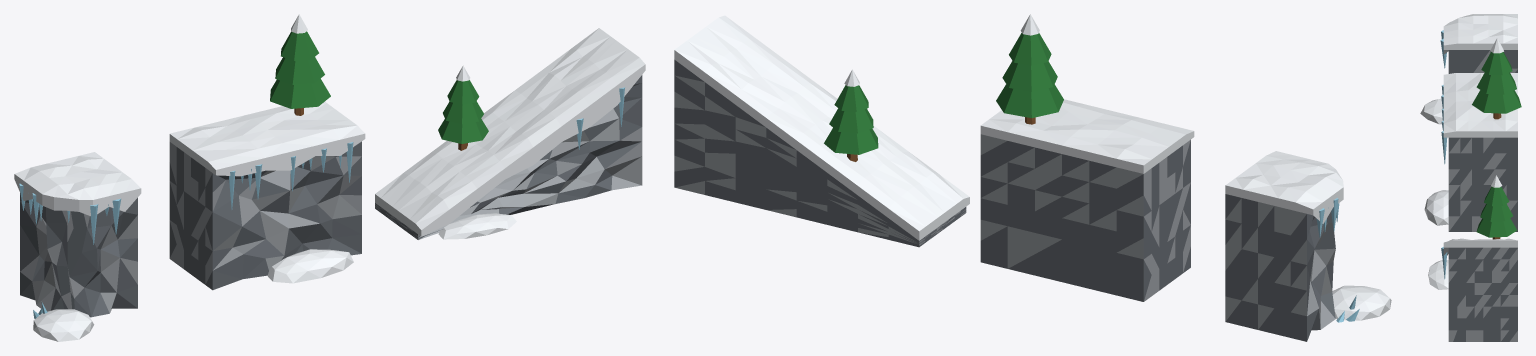
The model's file is snowy-cliff-kit.glb.
3 views of the same model, side by side, from view 1: azimuth 30°, elevation 25°; view 2: azimuth 150°, elevation 25°; view 3: azimuth 270°, elevation 25° (orthographic). The views are drawn at different scales.
Visible parts, largest first — view 1: Ledge_Straight, Slope_Snow, Cliff_CornerOutside; view 2: Ledge_Straight, Slope_Snow, Cliff_CornerOutside; view 3: Ledge_Straight, Slope_Snow, Cliff_CornerOutside.
Boxes of the visible parts, bbox=[...] form: Ledge_Straight: bbox=[169, 14, 365, 290]; Slope_Snow: bbox=[375, 28, 645, 239]; Cliff_CornerOutside: bbox=[14, 152, 141, 341]; Ledge_Straight: bbox=[980, 14, 1194, 301]; Slope_Snow: bbox=[674, 15, 969, 247]; Cliff_CornerOutside: bbox=[1225, 151, 1391, 341]; Ledge_Straight: bbox=[1424, 38, 1521, 231]; Slope_Snow: bbox=[1428, 175, 1517, 341]; Cliff_CornerOutside: bbox=[1420, 14, 1517, 124].
Size of the model in its own units: 64.92 by 23.1 by 11.69.
